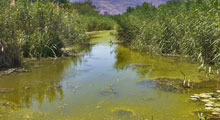vegetation: (1, 3, 95, 53), (166, 1, 217, 66), (126, 2, 183, 58)
water: (2, 52, 219, 120), (71, 26, 126, 59)
